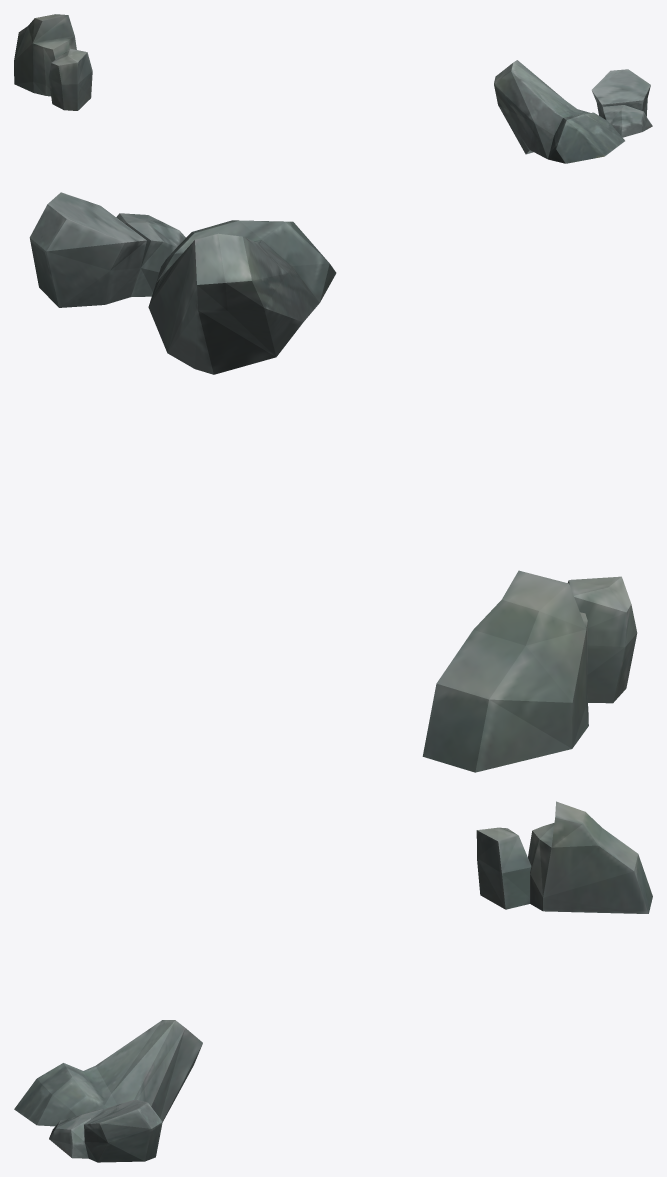
Rendered from Area_09_38.fbx.
The picture shows the model from 3 angles, top to bottom: view 1: azimuth 30°, elevation 25°; view 2: azimuth 150°, elevation 25°; view 3: azimuth 270°, elevation 25°; orthographic projection. The views are drawn at different scales.
Parts seen in each view (by area): view 1: Area_09_38; view 2: Area_09_38; view 3: Area_09_38.
Boxes of the visible parts, bbox=[...] form: Area_09_38: bbox=[14, 14, 652, 163]; Area_09_38: bbox=[29, 192, 637, 772]; Area_09_38: bbox=[14, 801, 652, 1162].
Size of the model in its own units: 3185 by 647 by 3064.
